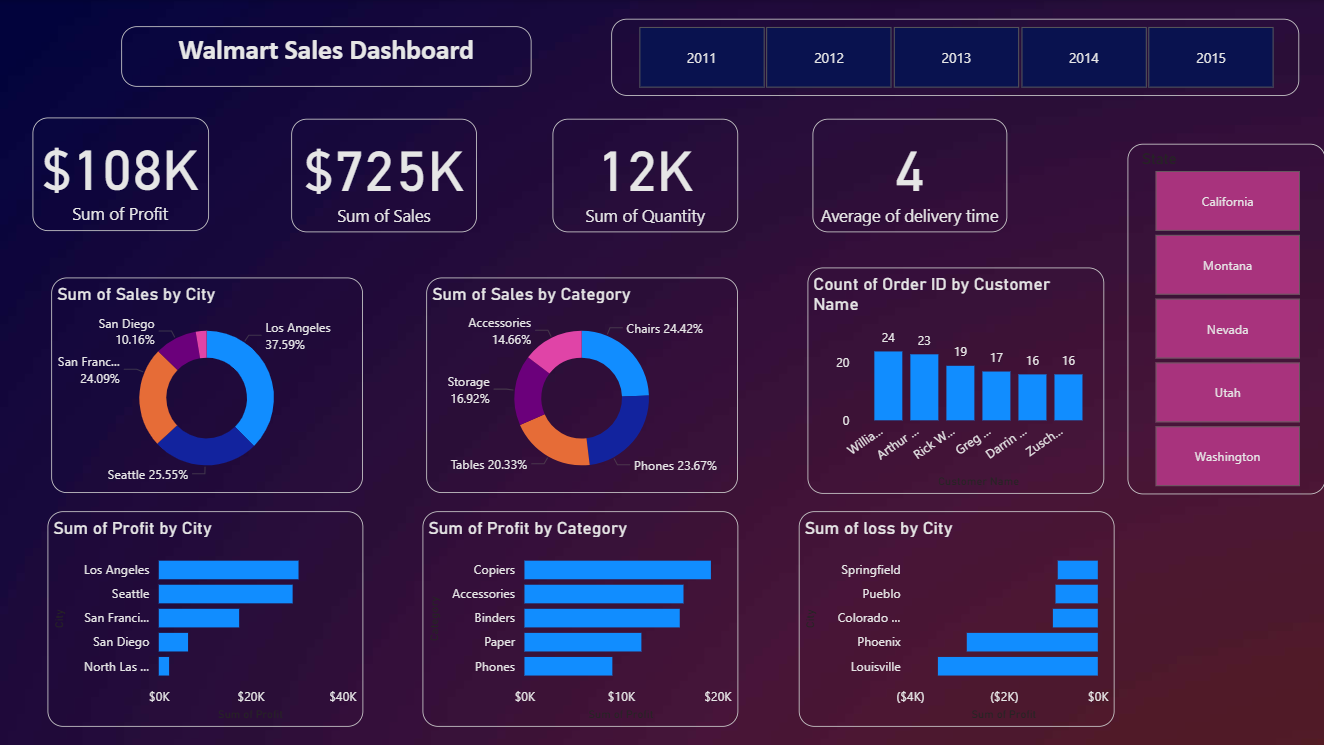

The page's visual inventory and layout, read from the dashboard file:
{"tool":"powerbi","page":{"name":"Page 1","canvas":[1280,720],"ordinal":0},"visuals":[{"type":"slicer","fields":{"Values":["Walmart.year"]},"box":[590,18.6,664.3,74.3],"z":0},{"type":"clusteredBarChart","fields":{"Y":["Walmart.Profit"],"Category":["Walmart.City"]},"box":[45.6,493.2,305,208.1],"z":1},{"type":"slicer","fields":{"Values":["Walmart.State"]},"box":[1088.6,138.6,191.4,338.6],"z":2},{"type":"donutChart","fields":{"Category":["Walmart.Category"],"Y":["Walmart.Sales"]},"box":[411.9,268,300.8,208.1],"z":3},{"type":"card","fields":{"Values":["Walmart.Profit"]},"box":[31.6,113.9,170.2,109.8],"z":4},{"type":"card","fields":{"Values":["Walmart.Sales"]},"box":[280.8,114,179.6,109.8],"z":5},{"type":"card","fields":{"Values":["Walmart.Quantity"]},"box":[533.1,114,179.6,109.8],"z":6},{"type":"card","title":"Average Delivery Date","fields":{"Values":["Walmart.delivery time"]},"box":[784,114,188.2,109.8],"z":7},{"type":"columnChart","fields":{"Category":["Walmart.Customer Name"],"Y":["Walmart.Order ID"]},"box":[779.7,258,286.5,218.1],"z":8},{"type":"clusteredBarChart","fields":{"Y":["Walmart.Profit"],"Category":["Walmart.Category"]},"box":[407.7,493.2,305,208.1],"z":9},{"type":"donutChart","fields":{"Y":["Walmart.Sales"],"Category":["Walmart.City"]},"box":[49.9,268,300.8,208.1],"z":10},{"type":"clusteredBarChart","title":"Sum of loss by City","fields":{"Y":["Walmart.Profit"],"Category":["Walmart.City"]},"box":[771.1,493.2,305,208.1],"z":11},{"type":"textbox","box":[117.1,25.7,395.7,58.6],"z":12}]}

Visuals, with their boxes in screenshot pixels (x1, y1, x2, y2), scaled from the page's 1280x720 canvas onto the 1324x745 screenshot:
slicer - Walmart.year: x1=610, y1=19, x2=1297, y2=96
clusteredBarChart - Walmart.Profit x Walmart.City: x1=47, y1=510, x2=363, y2=726
slicer - Walmart.State: x1=1126, y1=143, x2=1323, y2=494
donutChart - Walmart.Category x Walmart.Sales: x1=426, y1=277, x2=737, y2=493
card - Walmart.Profit: x1=33, y1=118, x2=209, y2=231
card - Walmart.Sales: x1=290, y1=118, x2=476, y2=232
card - Walmart.Quantity: x1=551, y1=118, x2=737, y2=232
"Average Delivery Date" card: x1=811, y1=118, x2=1006, y2=232
columnChart - Walmart.Customer Name x Walmart.Order ID: x1=807, y1=267, x2=1103, y2=493
clusteredBarChart - Walmart.Profit x Walmart.Category: x1=422, y1=510, x2=737, y2=726
donutChart - Walmart.Sales x Walmart.City: x1=52, y1=277, x2=363, y2=493
"Sum of loss by City" clusteredBarChart: x1=798, y1=510, x2=1113, y2=726
textbox: x1=121, y1=27, x2=530, y2=87
